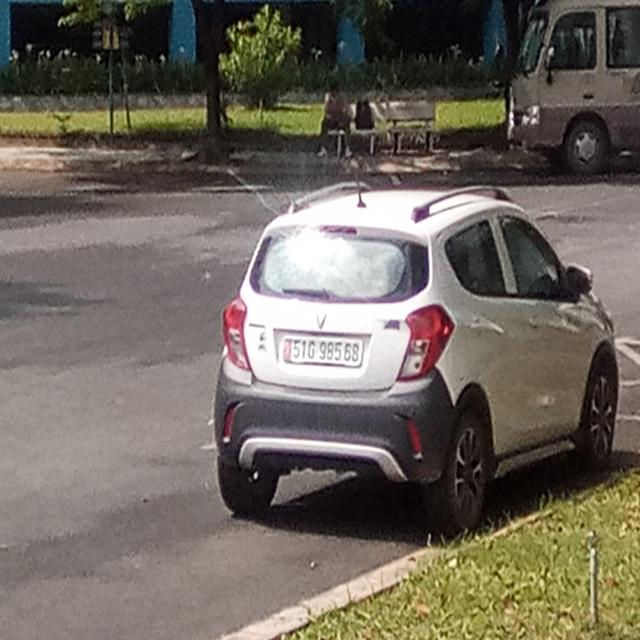bien_trang: (280, 331, 367, 372)
